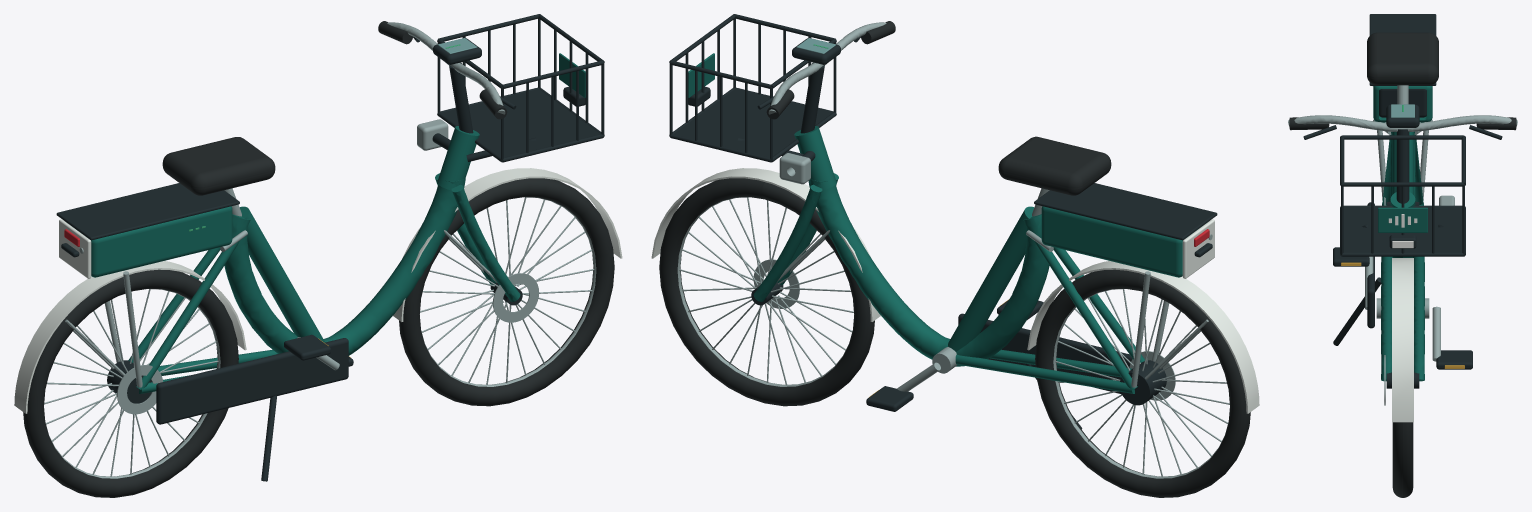
The model's file is pulselink.glb.
The picture shows the model from 3 angles, left to right: view 1: azimuth 30°, elevation 25°; view 2: azimuth 150°, elevation 25°; view 3: azimuth 270°, elevation 25°; orthographic projection. The views are drawn at different scales.
Parts seen in each view (by area): view 1: front_tire, rear_tire, low_step_frame, chain_guard, battery_housing, basket_rails, rear_rack_top, basket_floor, saddle, front_spokes, rear_mudguard, rear_spokes (+18 smaller); view 2: rear_tire, front_tire, low_step_frame, battery_housing, basket_rails, rear_rack_top, basket_floor, saddle, front_spokes, rear_spokes, rear_mudguard, seat_tube (+18 smaller); view 3: saddle, basket_floor, front_mudguard, basket_rails, handlebar, front_tire, rear_rack_top, front_fork_1, front_fork_-1, basket_badge, stem, removable_battery (+16 smaller).
Part boxes in pixels (<box>): front_tire: <box>399,178,614,406</box>; rear_tire: <box>23,269,238,497</box>; low_step_frame: <box>224,178,465,355</box>; chain_guard: <box>156,338,348,424</box>; battery_housing: <box>67,206,232,277</box>; basket_rails: <box>437,14,604,162</box>; rear_rack_top: <box>56,183,239,240</box>; basket_floor: <box>441,89,600,157</box>; saddle: <box>162,137,275,195</box>; front_spokes: <box>420,197,594,384</box>; rear_mudguard: <box>14,261,246,413</box>; rear_spokes: <box>44,289,218,476</box>; rear_tire: <box>1035,269,1250,497</box>; front_tire: <box>659,178,874,406</box>; low_step_frame: <box>808,179,1049,366</box>; battery_housing: <box>1041,206,1206,277</box>; basket_rails: <box>669,14,836,162</box>; rear_rack_top: <box>1034,183,1217,240</box>; basket_floor: <box>673,89,832,157</box>; saddle: <box>998,136,1111,195</box>; front_spokes: <box>679,197,853,385</box>; rear_spokes: <box>1055,289,1229,476</box>; rear_mudguard: <box>1027,261,1259,413</box>; seat_tube: <box>948,206,1034,351</box>; saddle: <box>1367,32,1438,85</box>; basket_floor: <box>1343,207,1462,252</box>; front_mudguard: <box>1392,258,1413,422</box>; basket_rails: <box>1340,135,1465,256</box>; handlebar: <box>1288,115,1517,131</box>; front_tire: <box>1392,422,1413,497</box>; rear_rack_top: <box>1369,14,1436,85</box>; front_fork_1: <box>1413,256,1424,381</box>; front_fork_-1: <box>1381,256,1392,381</box>; basket_badge: <box>1378,207,1427,232</box>; stem: <box>1396,129,1409,203</box>; removable_battery: <box>1379,89,1426,117</box>.
Size of the model in its own units: 1.87 by 1.11 by 0.6521.
